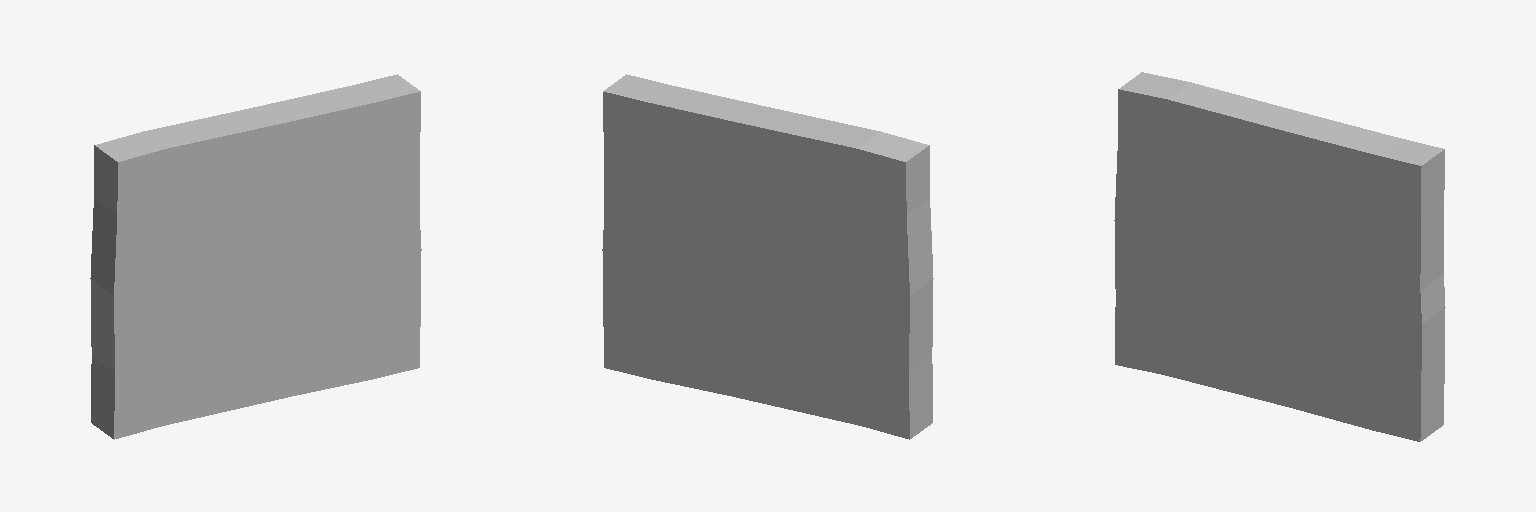
Rendered from lab_211.obj.
3 renders of one model, left to right at view 1: azimuth 30°, elevation 25°; view 2: azimuth 150°, elevation 25°; view 3: azimuth 330°, elevation 25°, orthographic.
Visible parts, largest first — view 1: outside, bedroom, living_room, bathroom, dining_room, kitchen, door; view 2: outside, bedroom, living_room, bathroom, dining_room, kitchen, door; view 3: outside, bedroom, living_room, bathroom, dining_room, kitchen, door.
Part boxes in pixels (x1,y1,x2,y2): outside: (90, 74, 421, 439); bedroom: (162, 176, 281, 281); living_room: (280, 156, 372, 251); bathroom: (162, 265, 229, 358); dining_room: (228, 228, 373, 297); kitchen: (278, 261, 373, 328); door: (228, 285, 277, 328); outside: (602, 74, 933, 439); bedroom: (742, 176, 861, 281); living_room: (651, 156, 743, 251); bathroom: (794, 265, 861, 358); dining_room: (650, 228, 795, 297); kitchen: (650, 261, 745, 328); door: (746, 285, 795, 328); outside: (1114, 72, 1445, 441); bedroom: (1163, 152, 1281, 257); living_room: (1281, 183, 1373, 278); bathroom: (1163, 230, 1229, 324); dining_room: (1229, 246, 1374, 312); kitchen: (1278, 290, 1374, 363); door: (1229, 279, 1278, 320).
Size of the model in its own units: 18.95 by 16.54 by 2.5.